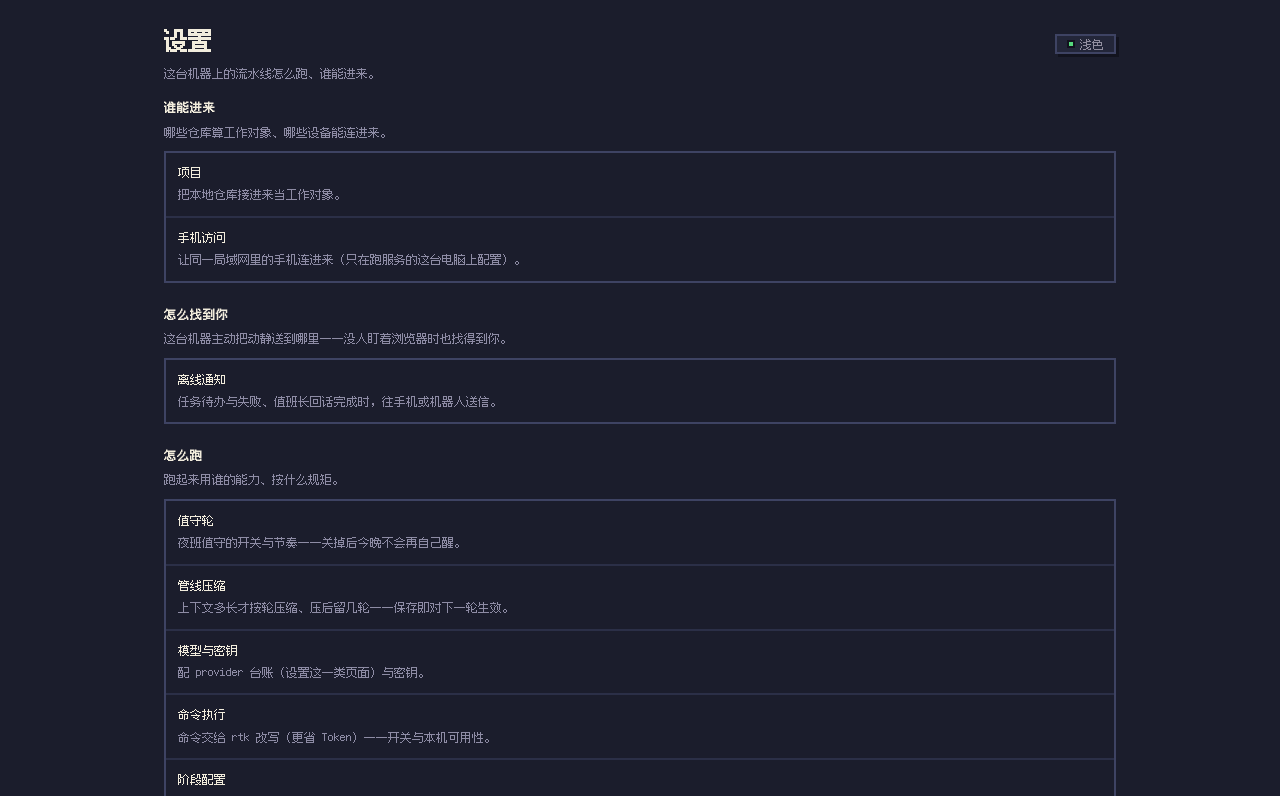
Test: 设置落地页（决策 198） › 页头那枚深浅切换钮按得动：data-theme 与本地记忆都真变（决策 300）
This screenshot has width=1280, height=796.
Step 1. Click the button "浅色" → (1086, 44), box [1055,34,1116,54]
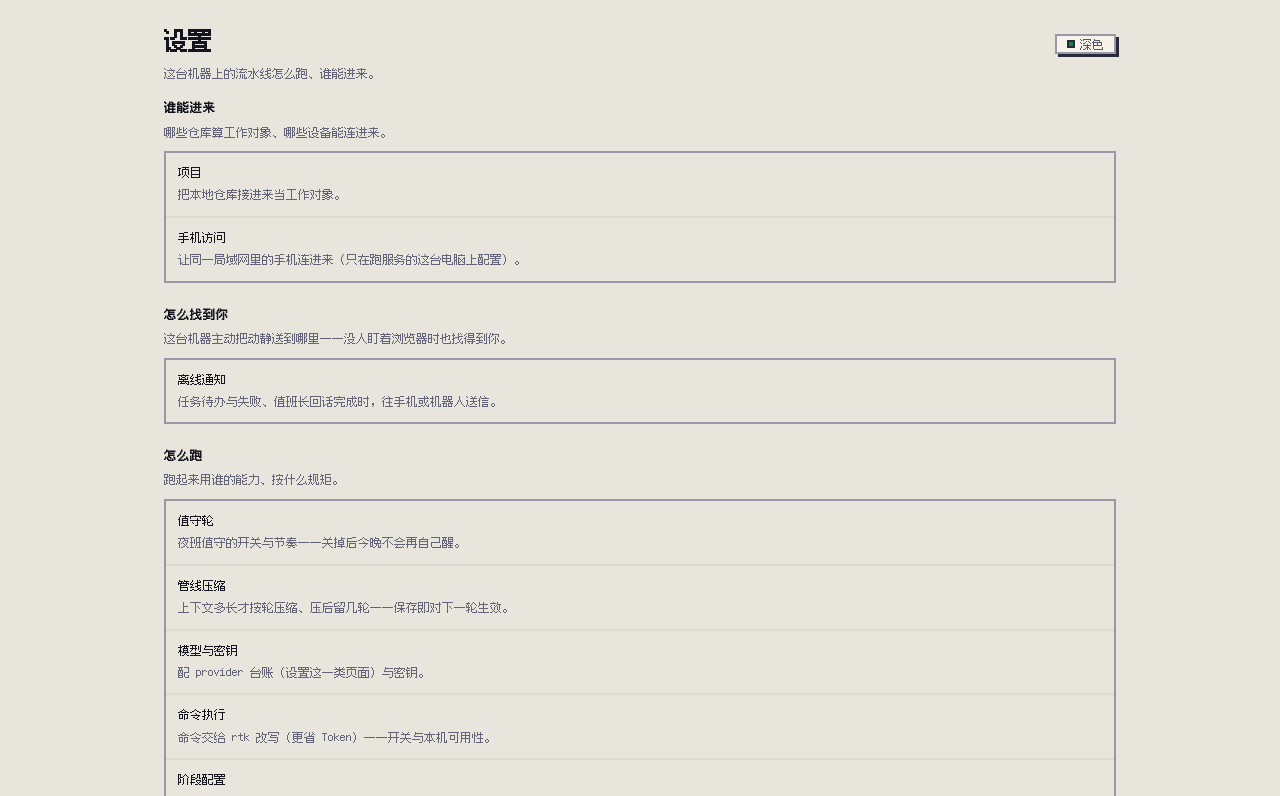
Expected: the button with aria-label "切换到深色主题" is shown, [1055,34,1116,54]
